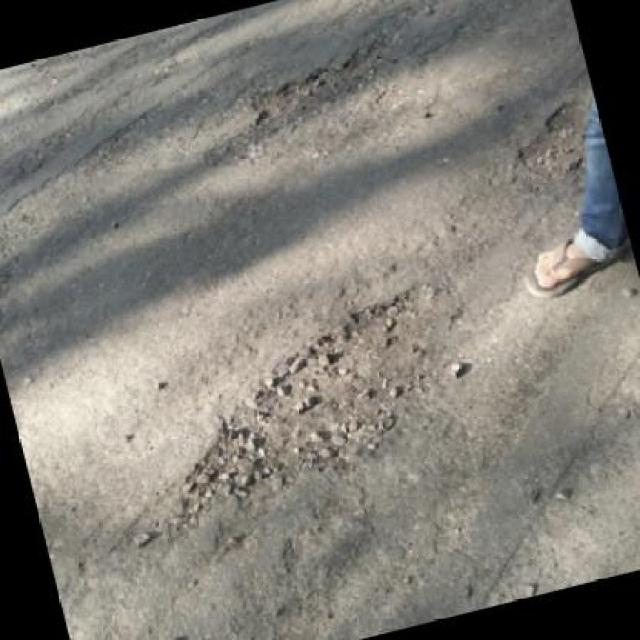pothole: (130, 273, 482, 536), (238, 36, 405, 138), (502, 93, 601, 189)
